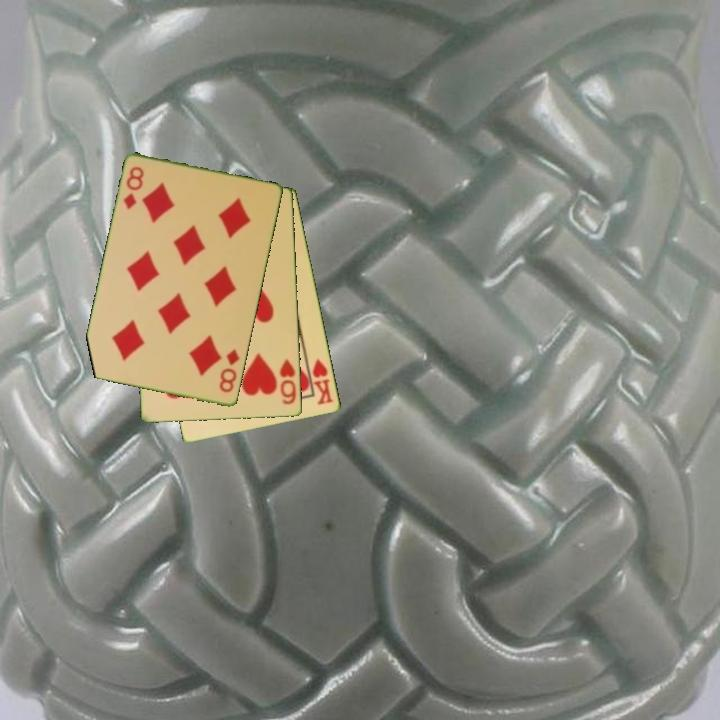6h: (277, 356, 299, 408)
8d: (120, 163, 147, 213), (216, 345, 242, 396)
Kh: (304, 354, 336, 408)
